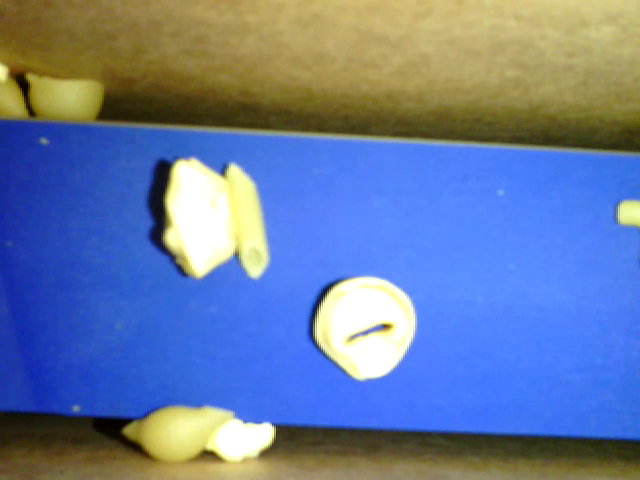penne: (223, 162, 271, 278)
shell: (118, 403, 234, 461), (24, 69, 104, 123)
tortellini: (311, 277, 417, 382), (162, 158, 236, 281)
